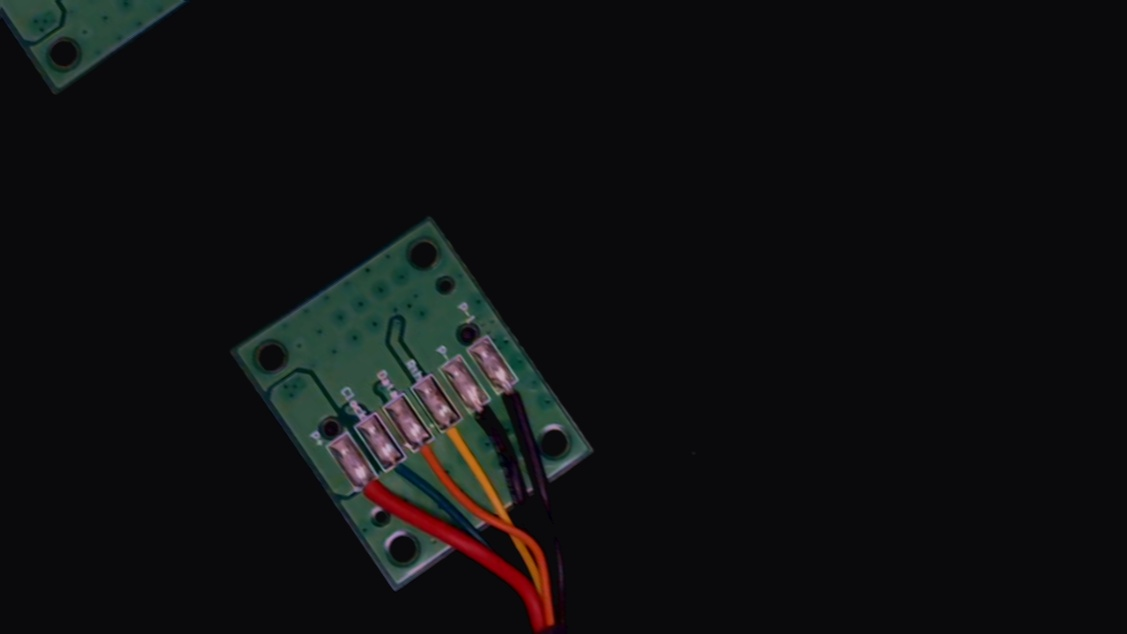Black: (457, 387, 515, 452)
Black1: (489, 367, 541, 426)
Green: (372, 442, 431, 510)
Orange: (402, 423, 461, 492)
Red: (346, 463, 406, 530)
Yellow: (429, 405, 483, 465)
